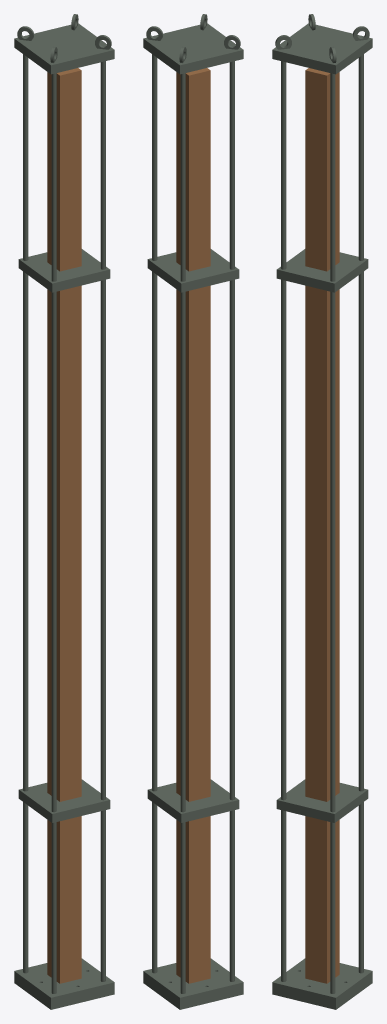
File: carrier.glb
3 views of the same model, side by side, from view 1: azimuth 30°, elevation 25°; view 2: azimuth 210°, elevation 25°; view 3: azimuth 330°, elevation 25° (orthographic).
Parts seen in each view (by area): view 1: actual-payload.001, tension-rod--0.17-0.001, tension-rod-0.17-0.001, tension-rod--0.17--0.001, head-plate.001, bottom-shoe.001, lateral-collar-4.001, lateral-collar-1.001; view 2: actual-payload.001, tension-rod-0.17--0.001, tension-rod--0.17--0.001, tension-rod-0.17-0.001, head-plate.001, bottom-shoe.001, lateral-collar-4.001, lateral-collar-1.001; view 3: actual-payload.001, tension-rod-0.17-0.001, tension-rod--0.17-0.001, tension-rod-0.17--0.001, head-plate.001, bottom-shoe.001, lateral-collar-4.001, lateral-collar-1.001.
Part boxes in pixels (left/top/right/bottom): actual-payload.001: left=47, top=68, right=81, bottom=983; tension-rod--0.17-0.001: left=51, top=73, right=56, bottom=993; tension-rod-0.17-0.001: left=100, top=61, right=105, bottom=981; tension-rod--0.17--0.001: left=23, top=54, right=28, bottom=973; head-plate.001: left=14, top=14, right=114, bottom=74; bottom-shoe.001: left=14, top=958, right=114, bottom=1009; lateral-collar-4.001: left=18, top=249, right=110, bottom=292; lateral-collar-1.001: left=18, top=779, right=110, bottom=822; actual-payload.001: left=176, top=68, right=210, bottom=983; tension-rod-0.17--0.001: left=180, top=73, right=185, bottom=993; tension-rod--0.17--0.001: left=229, top=61, right=234, bottom=981; tension-rod-0.17-0.001: left=152, top=54, right=157, bottom=973; head-plate.001: left=143, top=14, right=243, bottom=74; bottom-shoe.001: left=143, top=958, right=243, bottom=1009; lateral-collar-4.001: left=147, top=249, right=239, bottom=292; lateral-collar-1.001: left=147, top=779, right=239, bottom=822; actual-payload.001: left=305, top=68, right=339, bottom=983; tension-rod-0.17-0.001: left=330, top=73, right=335, bottom=993; tension-rod--0.17-0.001: left=281, top=61, right=286, bottom=981; tension-rod-0.17--0.001: left=358, top=54, right=363, bottom=973; head-plate.001: left=272, top=14, right=372, bottom=74; bottom-shoe.001: left=272, top=958, right=372, bottom=1009; lateral-collar-4.001: left=276, top=249, right=368, bottom=292; lateral-collar-1.001: left=276, top=779, right=368, bottom=822.
Size of the model in its own units: 0.44 by 6.32 by 0.44.
